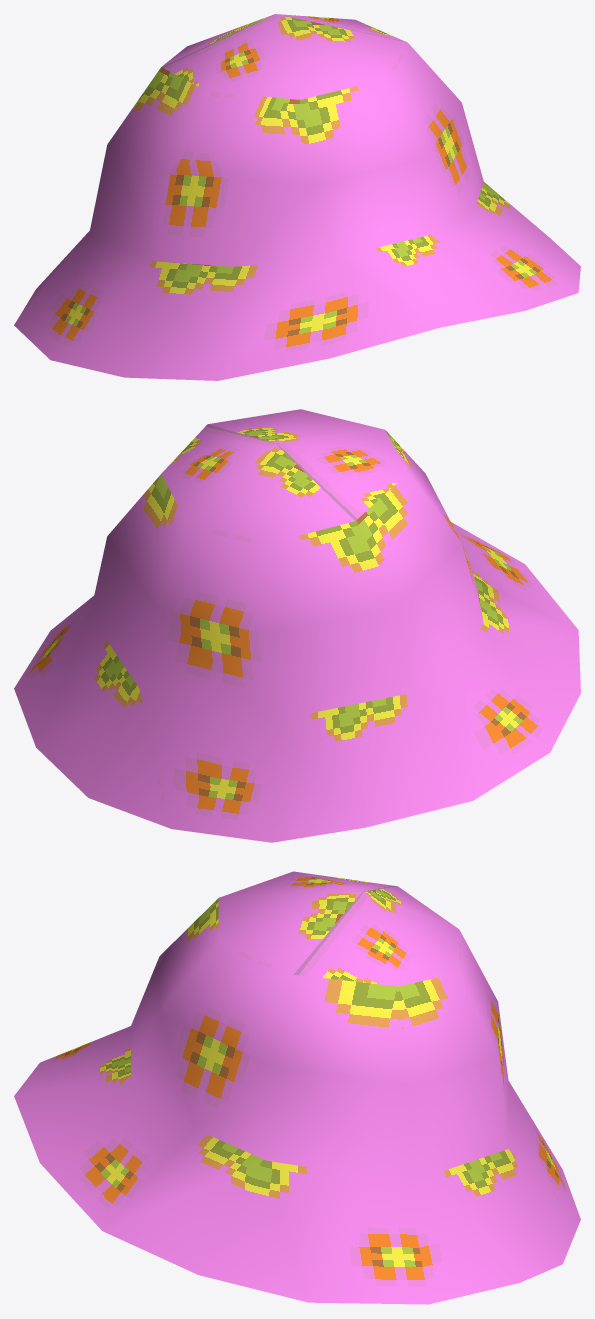
3 views of the same model, one above another, from view 1: azimuth 30°, elevation 25°; view 2: azimuth 150°, elevation 25°; view 3: azimuth 270°, elevation 25° (orthographic). The views are drawn at different scales.
Visible parts, largest first — view 1: code_head60; view 2: code_head60; view 3: code_head60.
Part boxes in pixels (x1,y1,x2,y2): code_head60: [14, 14, 580, 380]; code_head60: [14, 409, 580, 842]; code_head60: [14, 871, 580, 1304].
Bounding box in the file's own units: 0.9644 × 0.5715 × 0.8972.
1 material, 1 textured.
